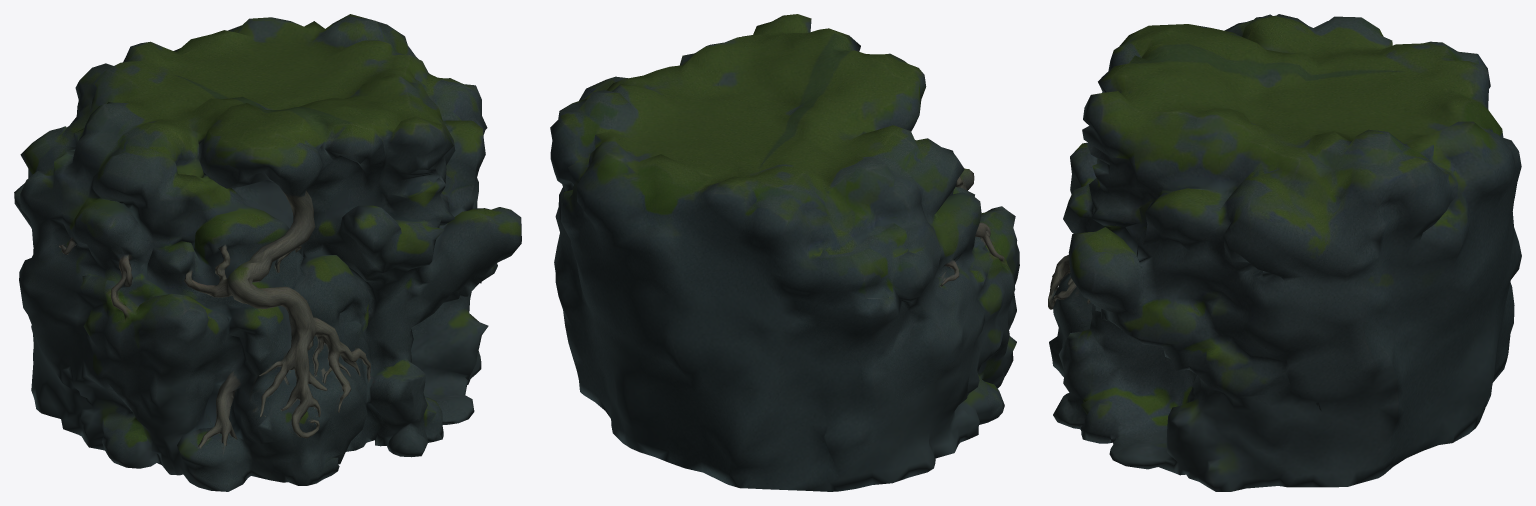
The model's file is DaNui_RungThieng.fbx.
3 renders of one model, left to right at view 1: azimuth 30°, elevation 25°; view 2: azimuth 150°, elevation 25°; view 3: azimuth 270°, elevation 25°, orthographic. The views are drawn at different scales.
Parts seen in each view (by area): view 1: Mesh_0; view 2: Mesh_0; view 3: Mesh_0.
Boxes of the visible parts, bbox=[...] form: Mesh_0: bbox=[14, 14, 521, 491]; Mesh_0: bbox=[550, 14, 1019, 491]; Mesh_0: bbox=[1048, 14, 1521, 491].
Bounding box in the file's own units: 95.17 × 69.29 × 86.96.
1 material, 1 textured.
